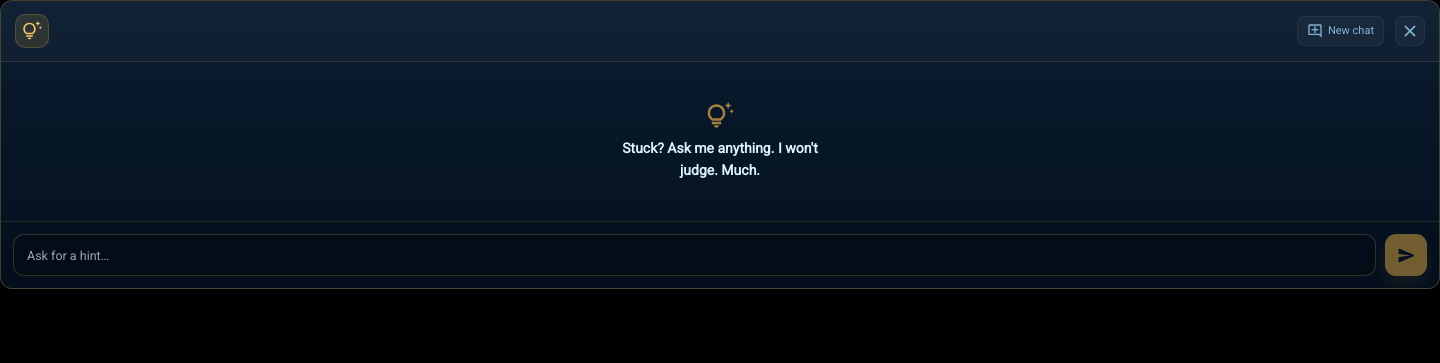
Test: HintPanel Component › a refusal (isHint: false) is shown but never recorded
The image size is (1440, 363).
Type "help" into the field with test id "hint-input" at (694, 255), box [13,234,1376,276]
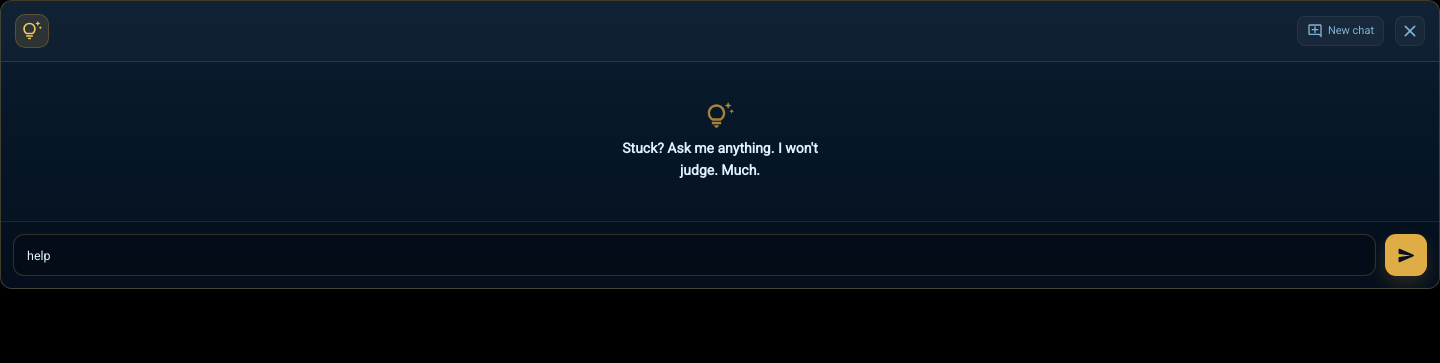
Click the button with test id "hint-send" at (1406, 255), box [1385,234,1427,276]
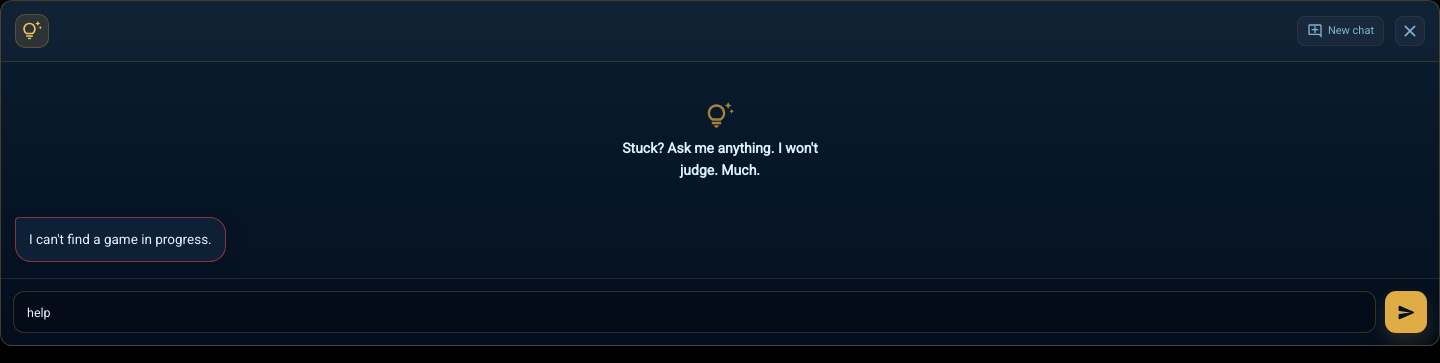
Expected: the text "I can't find a game in progress." is shown, [15,217,226,262]
Expected: the text with test id "hint-error" shows "can't find a game", [29,231,212,247]
